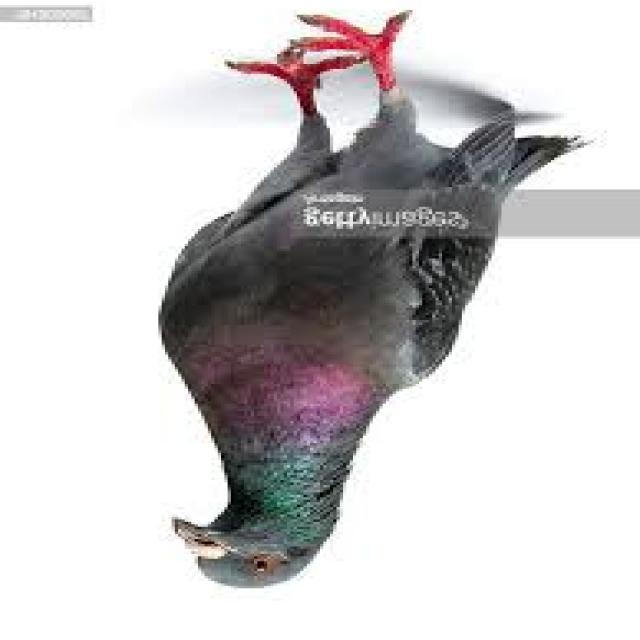pigeon: (138, 21, 597, 622)
